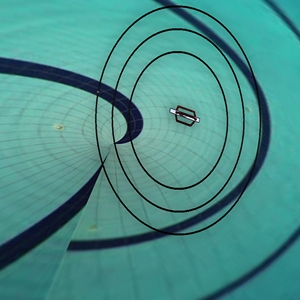circle: (85, 4, 270, 238)
submarine: (161, 98, 210, 138)
